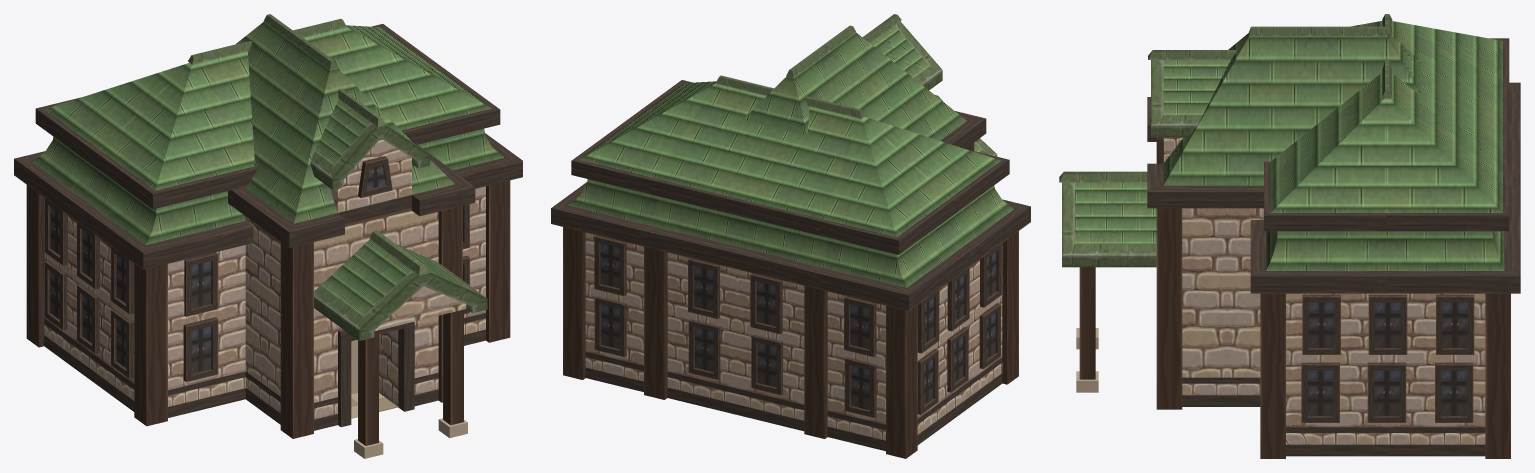
The model's file is Mansion2.fbx.
The picture shows the model from 3 angles, left to right: view 1: azimuth 30°, elevation 25°; view 2: azimuth 150°, elevation 25°; view 3: azimuth 270°, elevation 25°; orthographic projection. The views are drawn at different scales.
Visible parts, largest first — view 1: obj; view 2: obj; view 3: obj.
Boxes of the visible parts, x1,y1,x2,y2 form: obj: [14, 14, 522, 458]; obj: [551, 14, 1030, 458]; obj: [1059, 14, 1520, 458].
Size of the model in its own units: 7.15 by 5.83 by 7.2.
